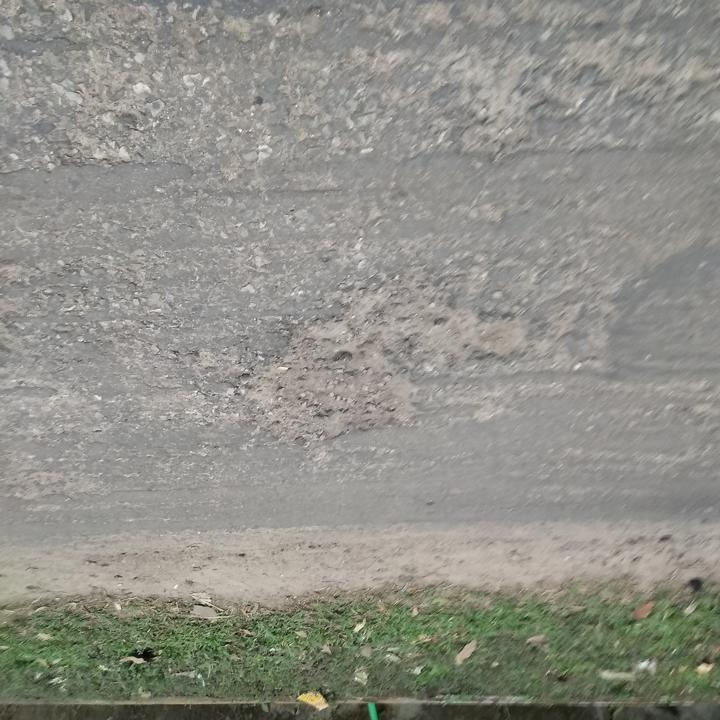pothole: (232, 281, 531, 458)
